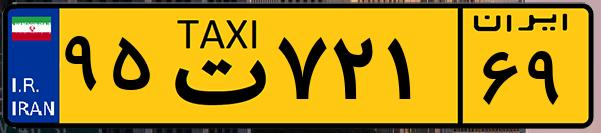1: (385, 28, 445, 110)
2: (330, 28, 385, 110)
5: (110, 28, 158, 98)
6: (475, 38, 525, 113)
7: (270, 28, 330, 110)
9: (57, 26, 110, 100), (525, 38, 570, 115)
ت: (158, 12, 270, 120)
